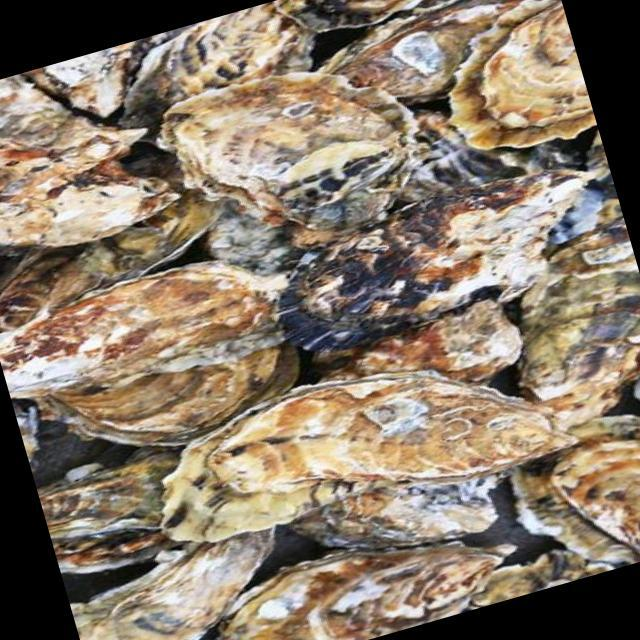Oyster- Indeterminate: (157, 365, 584, 544), (285, 167, 602, 356), (0, 254, 303, 444), (0, 152, 225, 374), (157, 69, 414, 248), (210, 525, 585, 640), (519, 224, 640, 428), (68, 529, 272, 640), (445, 0, 594, 151), (501, 412, 640, 566), (270, 0, 423, 35)
